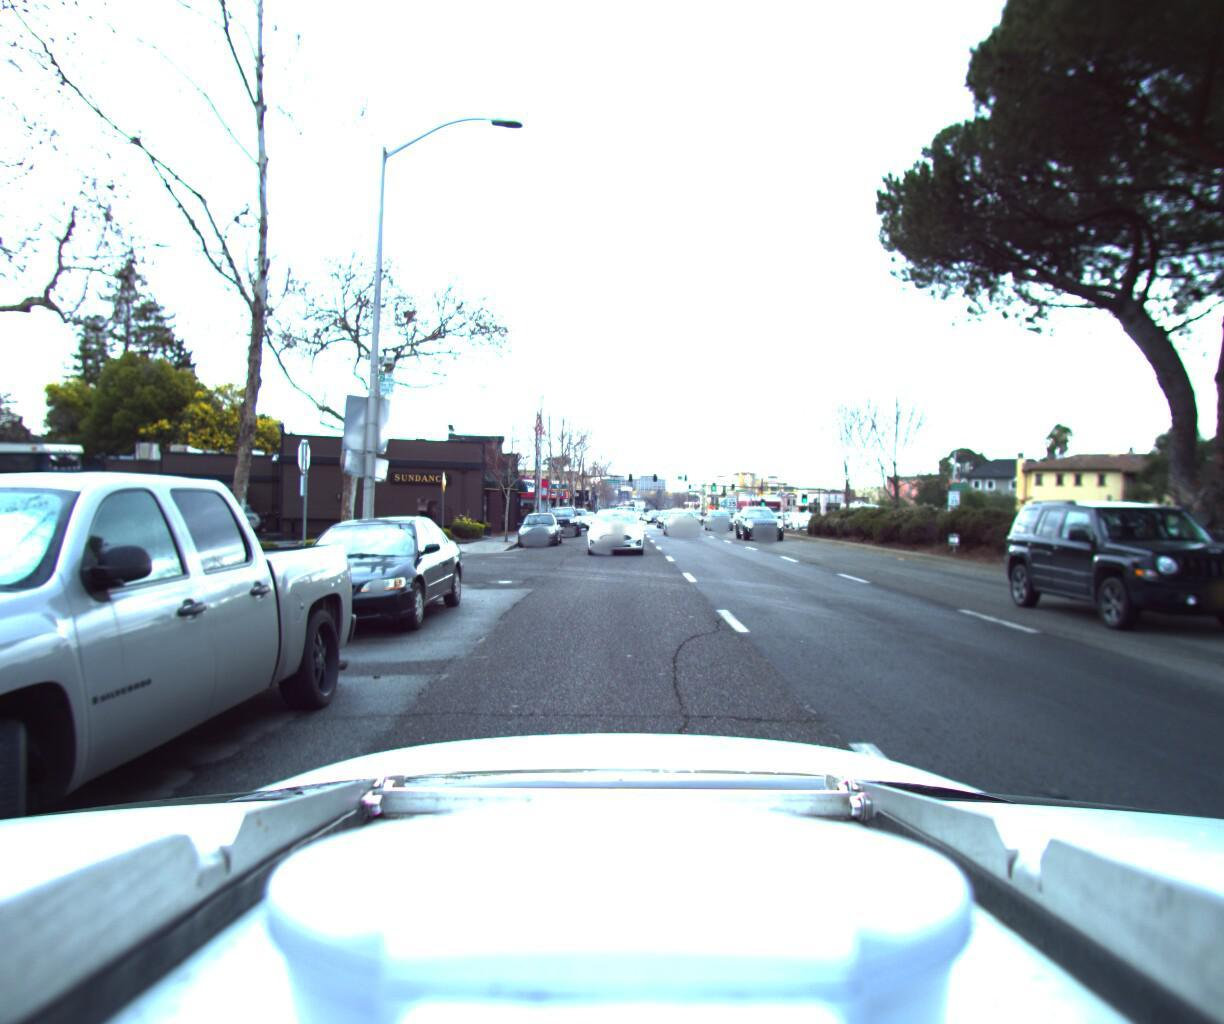car: (0, 418, 384, 1024), (1028, 484, 1224, 661), (241, 503, 478, 645), (0, 423, 209, 576), (1147, 484, 1224, 564), (588, 500, 646, 552), (736, 497, 795, 537), (516, 502, 563, 542), (542, 496, 583, 533), (662, 500, 702, 533), (608, 496, 638, 523), (703, 498, 735, 524), (564, 500, 593, 525), (788, 502, 822, 522), (764, 504, 791, 521)
